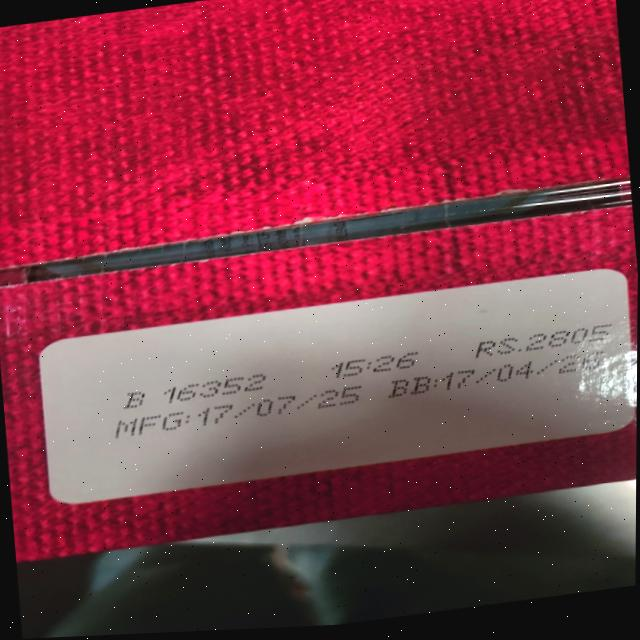BB: (389, 352, 605, 399)
Batch: (117, 370, 276, 409)
MFG: (111, 384, 366, 439)
RS: (470, 322, 617, 361)
TimeStamp: (326, 346, 424, 382)
